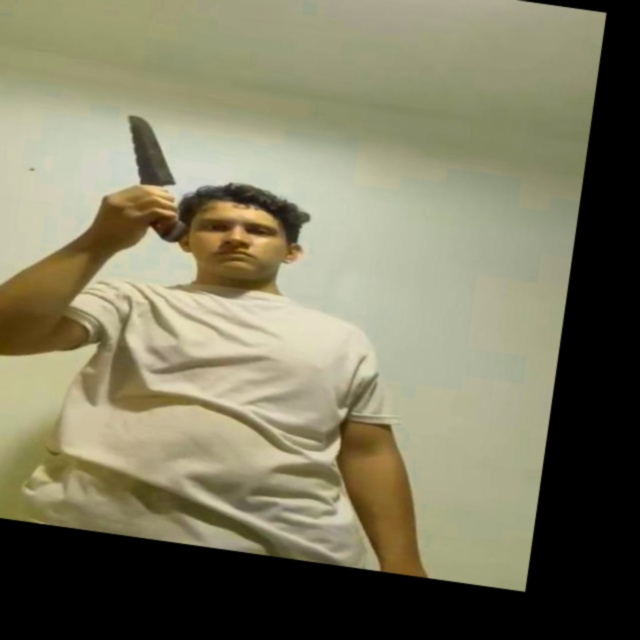Sharp-Object: (118, 113, 182, 192)
